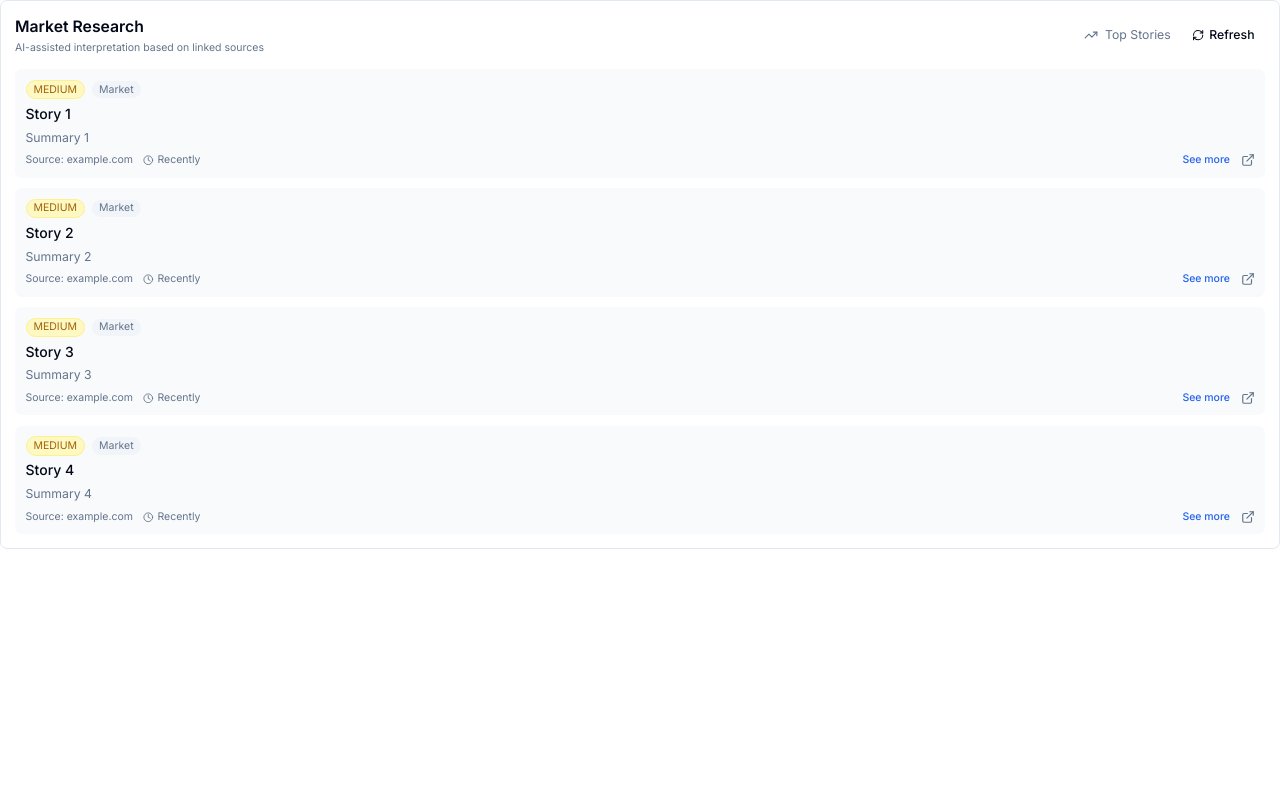
Test: MarketSummary › keeps loaded research visible when a refresh fails
The width and height of the screenshot is (1280, 800).
Expected: the heading "Story 1" is shown, [26,105,71,122]
Expected: the text "AI-assisted interpretation based on linked sources" is shown, [15,41,264,55]
Click the button "Refresh" at [1223, 35], box [1181,19,1265,51]
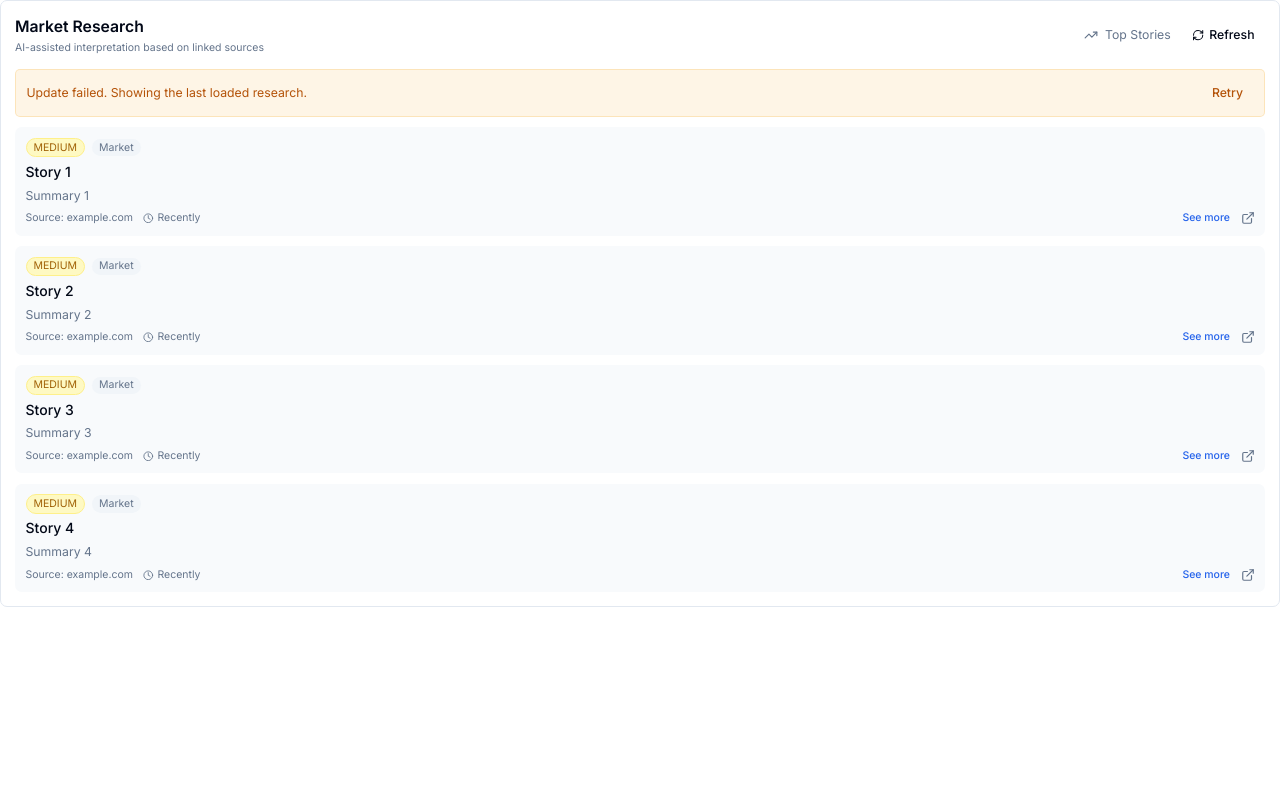
Expected: the heading "Story 1" is shown, [26,163,71,180]
Now the text "Update failed. Showing the last loaded research." is shown, box [26,84,307,102]
